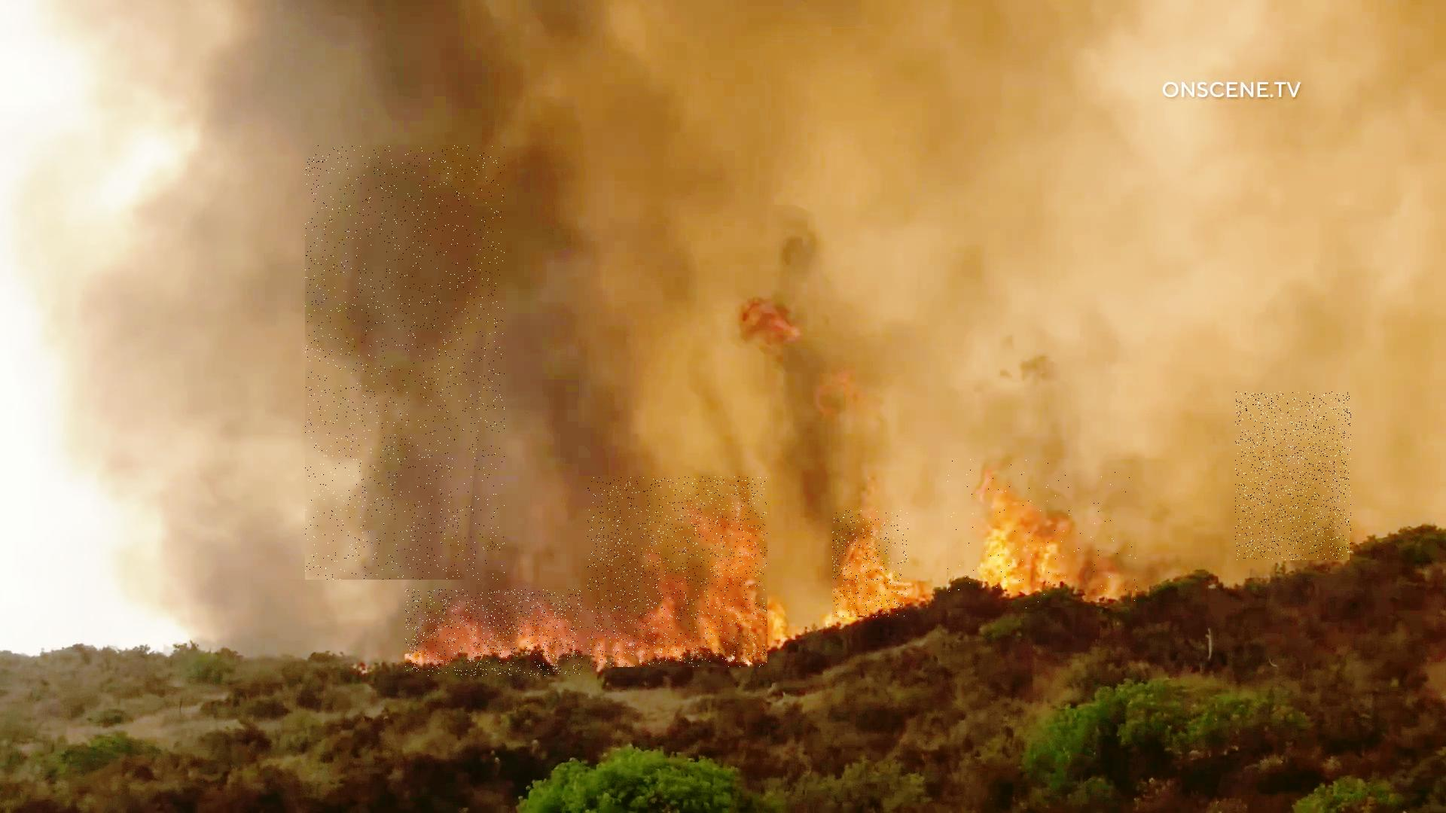fire: (588, 477, 768, 667), (947, 460, 1141, 609), (405, 590, 582, 676), (833, 510, 909, 617)
smoke: (306, 145, 505, 580), (1236, 392, 1352, 560)
